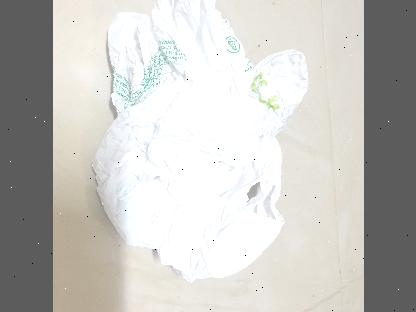Others: (90, 0, 310, 286)
